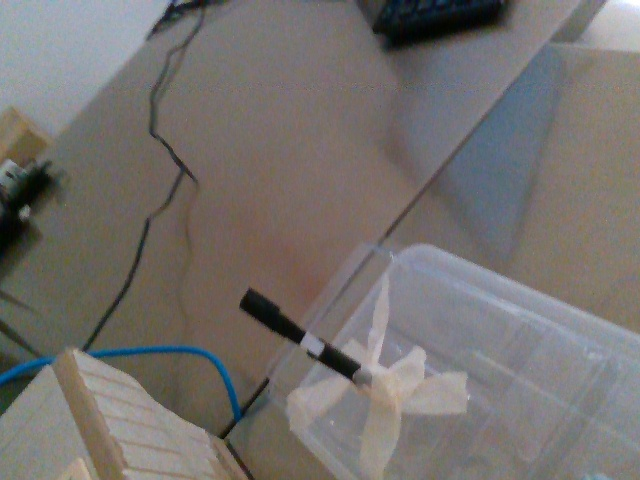test_strip: (236, 287, 323, 357)
